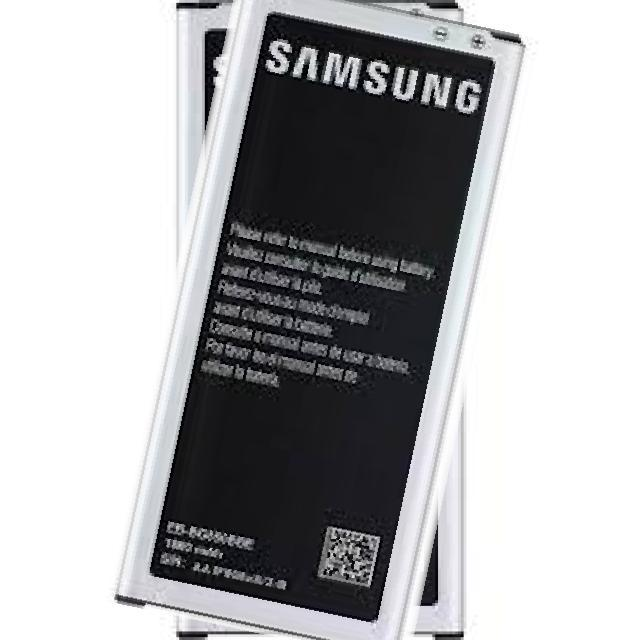Battery: (114, 0, 533, 639)
